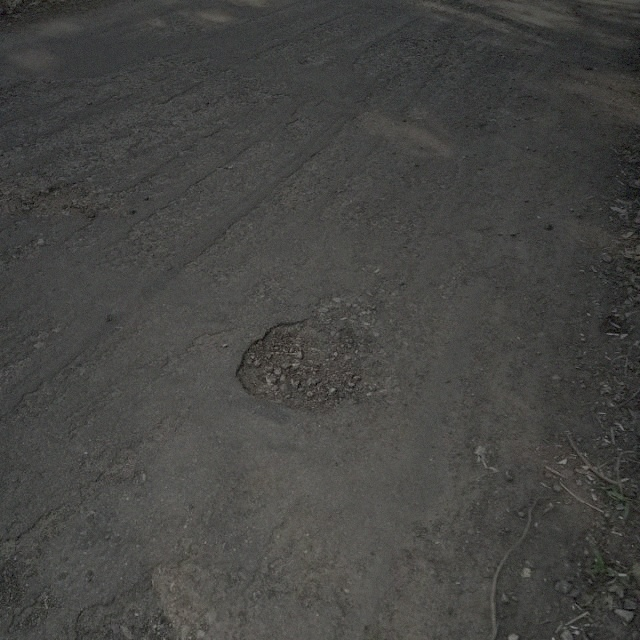pothole: (230, 314, 380, 412), (26, 178, 90, 218)
